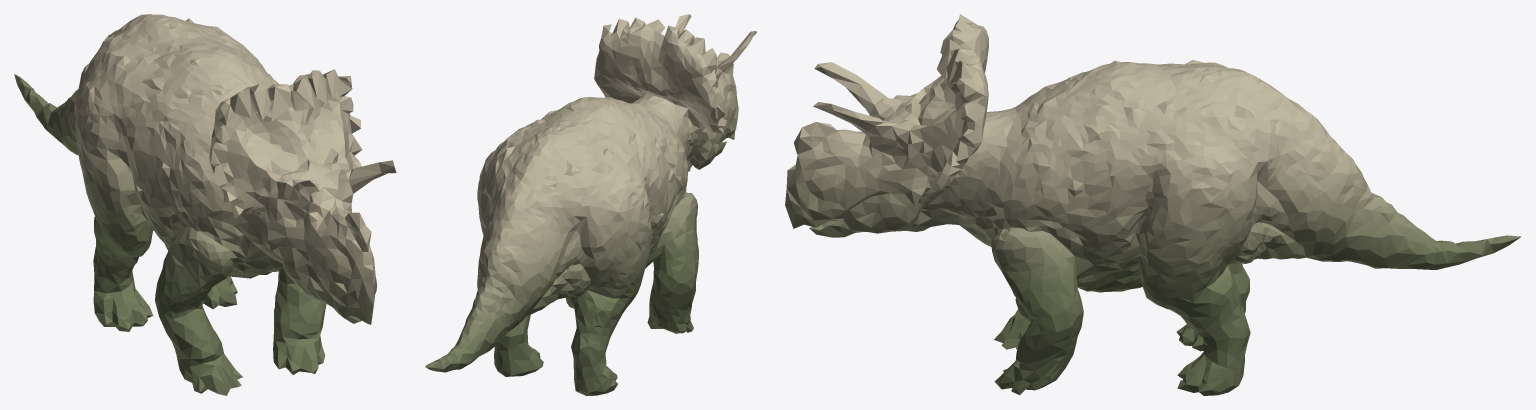
Rendered from wendiceratops.glb.
The picture shows the model from 3 angles, left to right: view 1: azimuth 30°, elevation 25°; view 2: azimuth 150°, elevation 25°; view 3: azimuth 270°, elevation 25°; orthographic projection. The views are drawn at different scales.
Visible parts, largest first — view 1: wendiceratops; view 2: wendiceratops; view 3: wendiceratops.
Boxes of the visible parts, bbox=[...] form: wendiceratops: bbox=[14, 14, 396, 395]; wendiceratops: bbox=[425, 14, 756, 395]; wendiceratops: bbox=[785, 14, 1521, 395].
Bounding box in the file's own units: 21.18 × 35.94 × 72.01.
